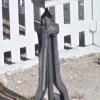Statue: (23, 3, 70, 87)
